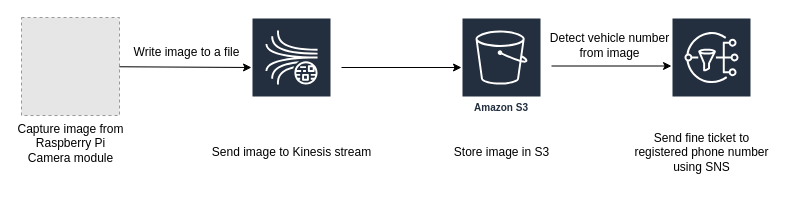
This 798x200 diagram has some shape labels left out. Grey dashed boxes stand in for pictures. The centre of each missing label's shape, as x and y in pixels:
"Amazon Kinesis Data Streams" belongs at (x=291, y=77).
"Amazon SNS" belongs at (x=711, y=67).
